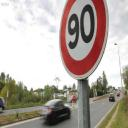speed_limit_90: (62, 0, 104, 74)
